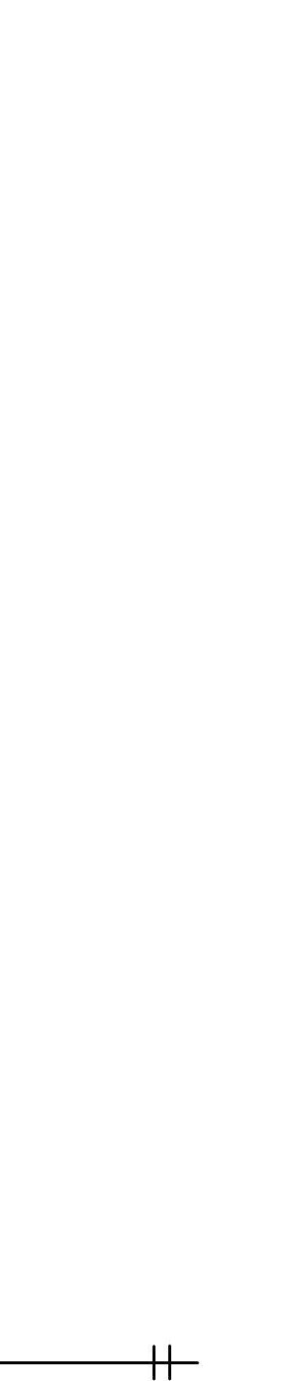115_buffer: (152, 1344, 172, 1381)
